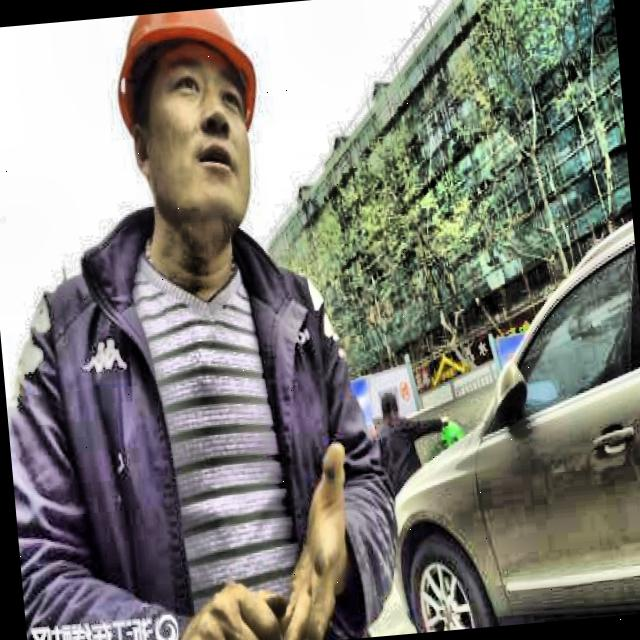helmet: (108, 7, 272, 240)
